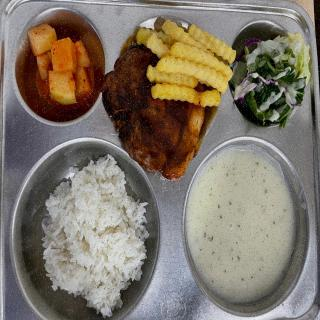Nasi: (44, 156, 150, 320)
